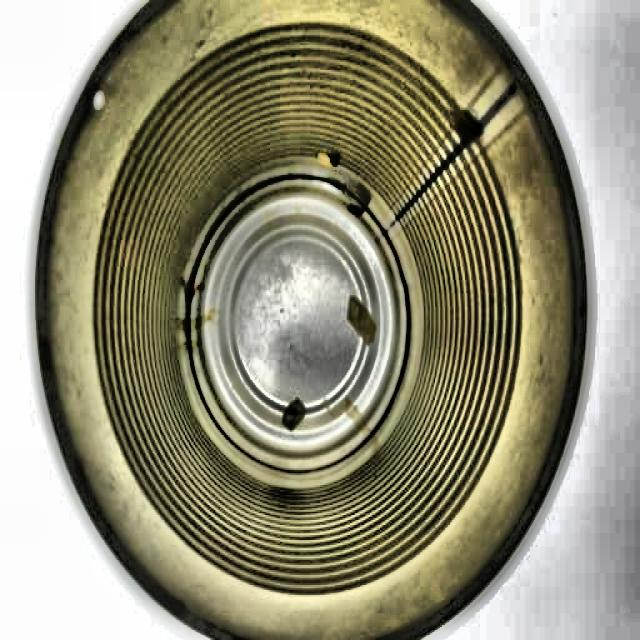metal: (29, 3, 595, 637)
